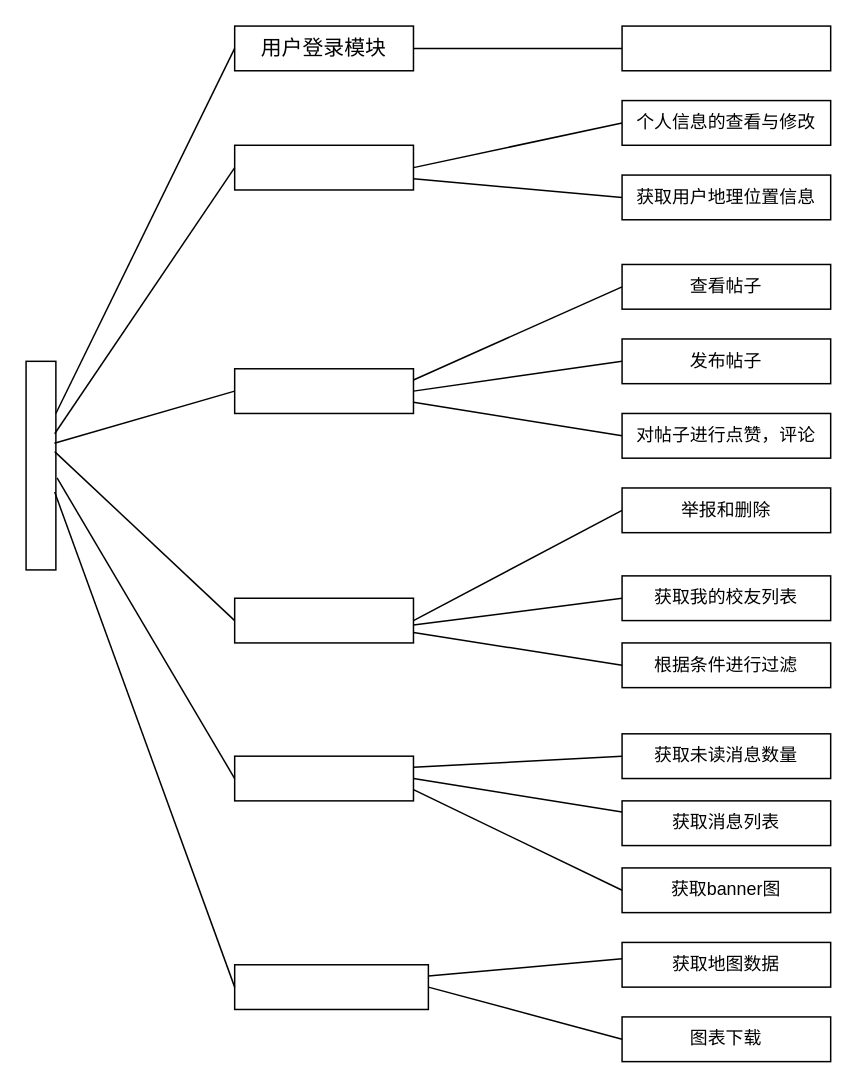
Some shapes in this 857 by 1088 pixel diagram are drawn without their labels. The shapes that lost their labels are listed below. From the top down, each one's centre as x and y in pixels, then its label:
[726,48]: 登录
[323,167]: 个人信息模块
[323,390]: 帖子模块
[40,465]: 校友社区小程序
[323,620]: 校友搜索模块
[323,778]: 消息推送模块
[330,986]: 校友数据可视化模块
